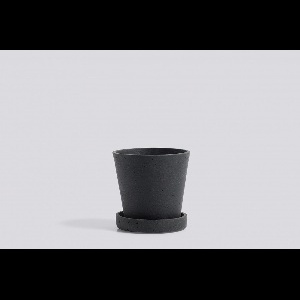flowerpot: (112, 147, 190, 232)
